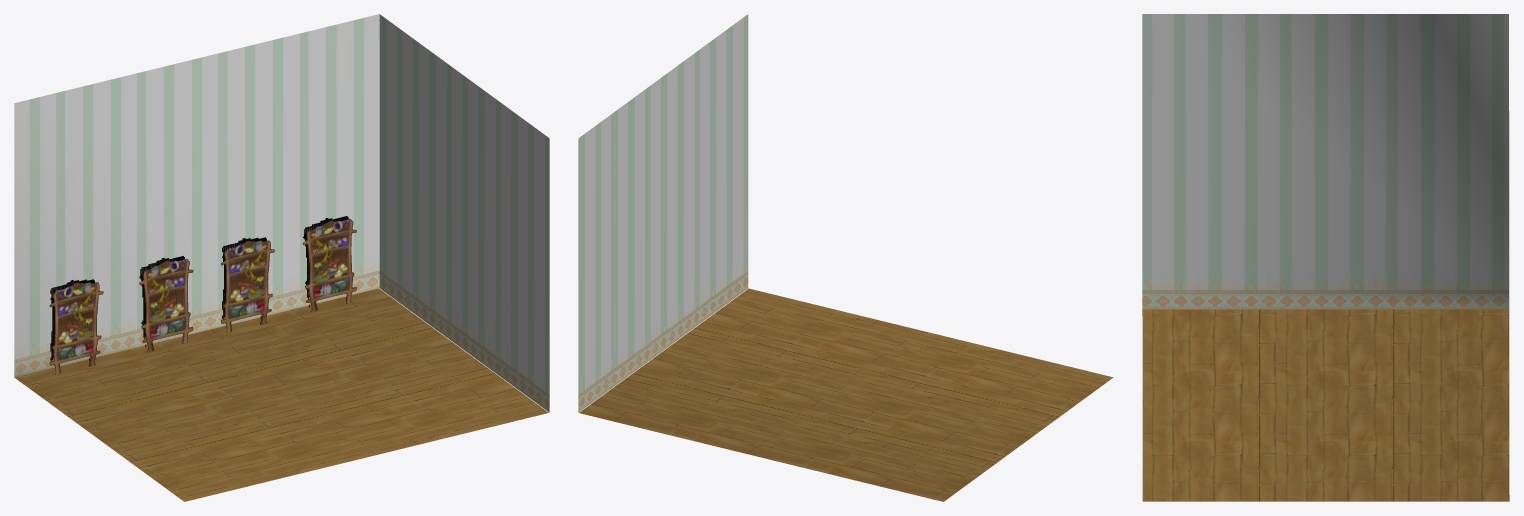
The model's file is memory_room.glb.
3 views of the same model, side by side, from view 1: azimuth 30°, elevation 25°; view 2: azimuth 150°, elevation 25°; view 3: azimuth 270°, elevation 25° (orthographic). The views are drawn at different scales.
Visible parts, largest first — view 1: walls, floor, bookshelf3, bookshelf4, bookshelf1, bookshelf2; view 2: floor, walls; view 3: walls, floor.
Boxes of the visible parts, left/top/right/bottom form: walls: left=14, top=14, right=549, bottom=412; floor: left=14, top=288, right=548, bottom=501; bookshelf3: left=221, top=240, right=274, bottom=332; bookshelf4: left=302, top=219, right=356, bottom=312; bookshelf1: left=49, top=282, right=103, bottom=374; bookshelf2: left=139, top=259, right=193, bottom=352; floor: left=579, top=288, right=1113, bottom=501; walls: left=578, top=14, right=748, bottom=412; walls: left=1142, top=14, right=1509, bottom=406; floor: left=1142, top=309, right=1509, bottom=501.
Size of the model in its own units: 36.28 by 26.02 by 29.27.
Materials: 4 (4 with a texture image).
